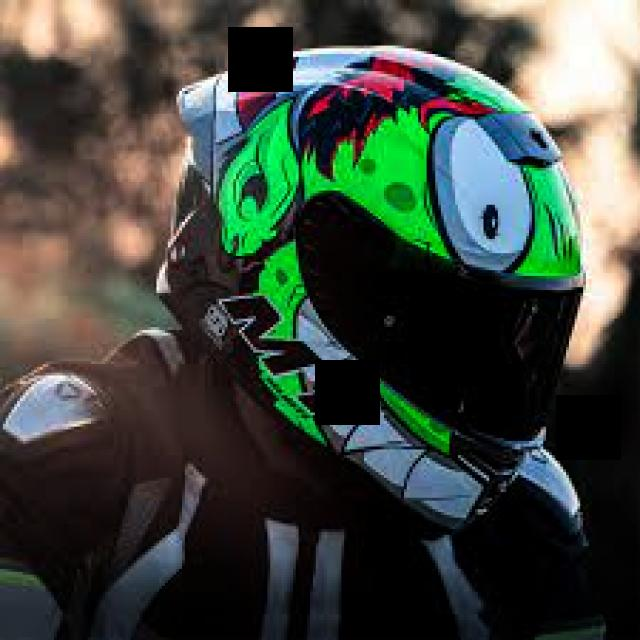Helmet: (159, 48, 582, 527)
